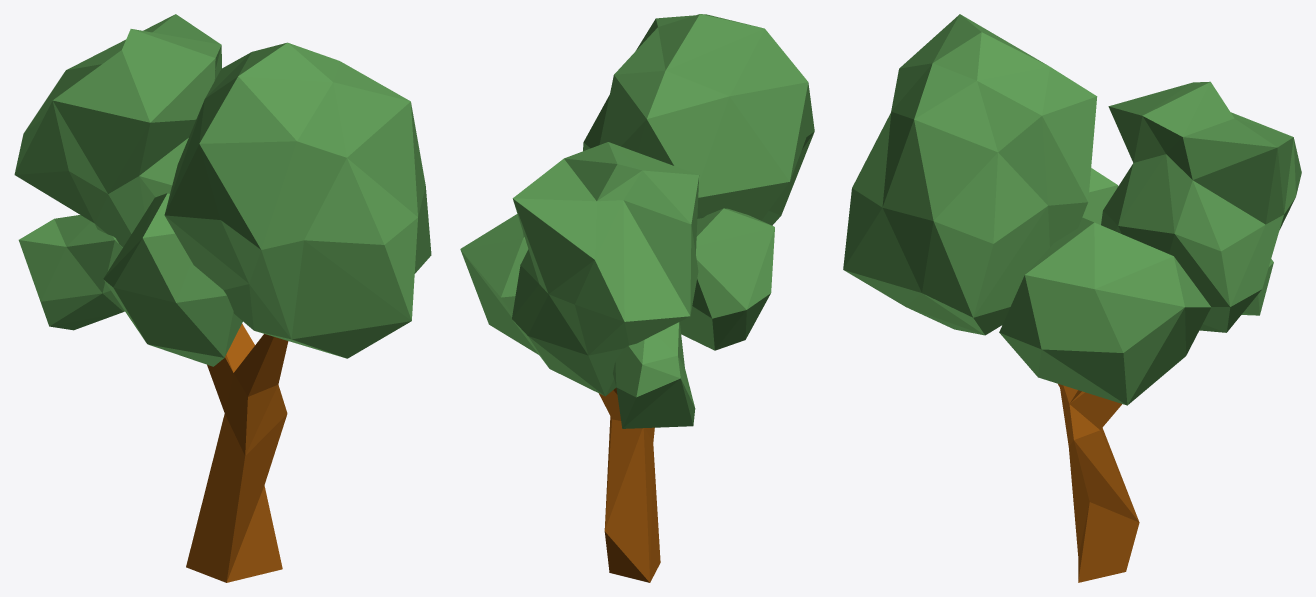
Rendered from tree_01.FBX.
3 views of the same model, side by side, from view 1: azimuth 30°, elevation 25°; view 2: azimuth 150°, elevation 25°; view 3: azimuth 270°, elevation 25° (orthographic). The views are drawn at different scales.
Visible parts, largest first — view 1: Object251, Object252; view 2: Object251, Object252; view 3: Object251, Object252.
Part boxes in pixels (box(x1,y1,x2,y2)): Object251: box(14, 14, 431, 366); Object252: box(186, 323, 288, 582); Object251: box(460, 14, 814, 428); Object252: box(599, 388, 660, 582); Object251: box(843, 14, 1301, 405); Object252: box(1058, 384, 1139, 582).
Size of the model in its own units: 176 by 318 by 250.
